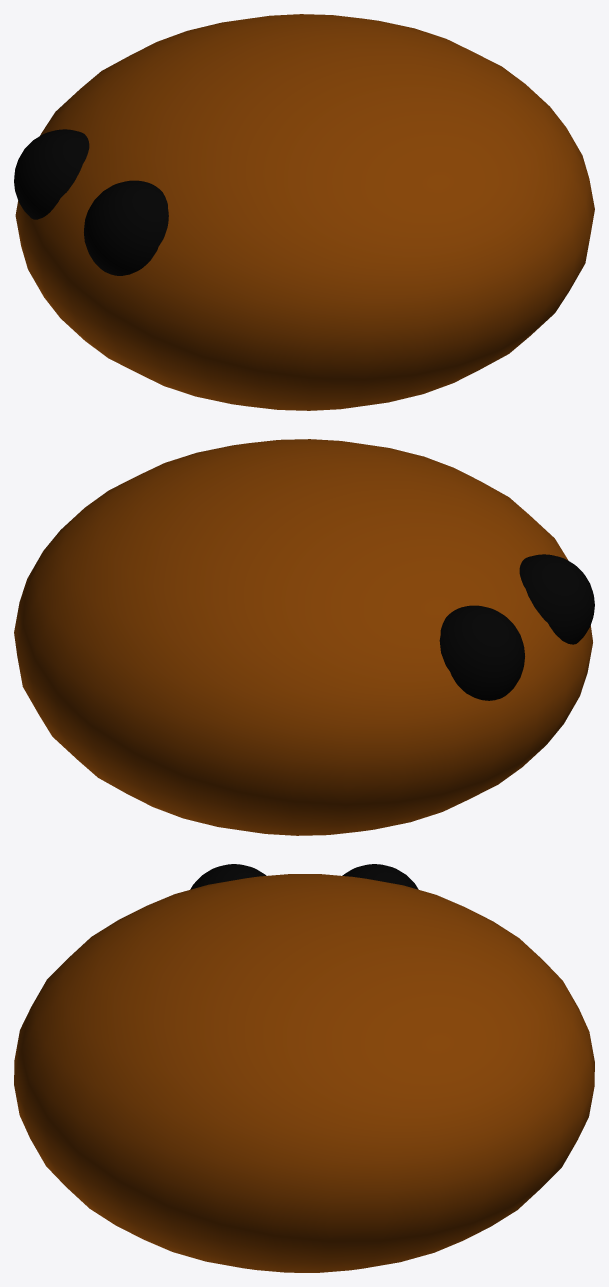
3 renders of one model, top to bottom at view 1: azimuth 30°, elevation 25°; view 2: azimuth 150°, elevation 25°; view 3: azimuth 270°, elevation 25°, orthographic.
Visible parts, largest first — view 1: Sphere, Sphere.002, Sphere.001; view 2: Sphere, Sphere.001, Sphere.002; view 3: Sphere, Sphere.002, Sphere.001.
Boxes of the visible parts, bbox=[...] form: Sphere: bbox=[15, 14, 594, 410]; Sphere.002: bbox=[84, 180, 168, 275]; Sphere.001: bbox=[14, 129, 89, 219]; Sphere: bbox=[14, 439, 592, 835]; Sphere.001: bbox=[439, 605, 524, 700]; Sphere.002: bbox=[519, 554, 594, 644]; Sphere: bbox=[14, 874, 594, 1272]; Sphere.002: bbox=[190, 864, 266, 889]; Sphere.001: bbox=[342, 864, 418, 889].
Bounding box in the file's own units: 0.6673 × 0.4 × 0.6673.
